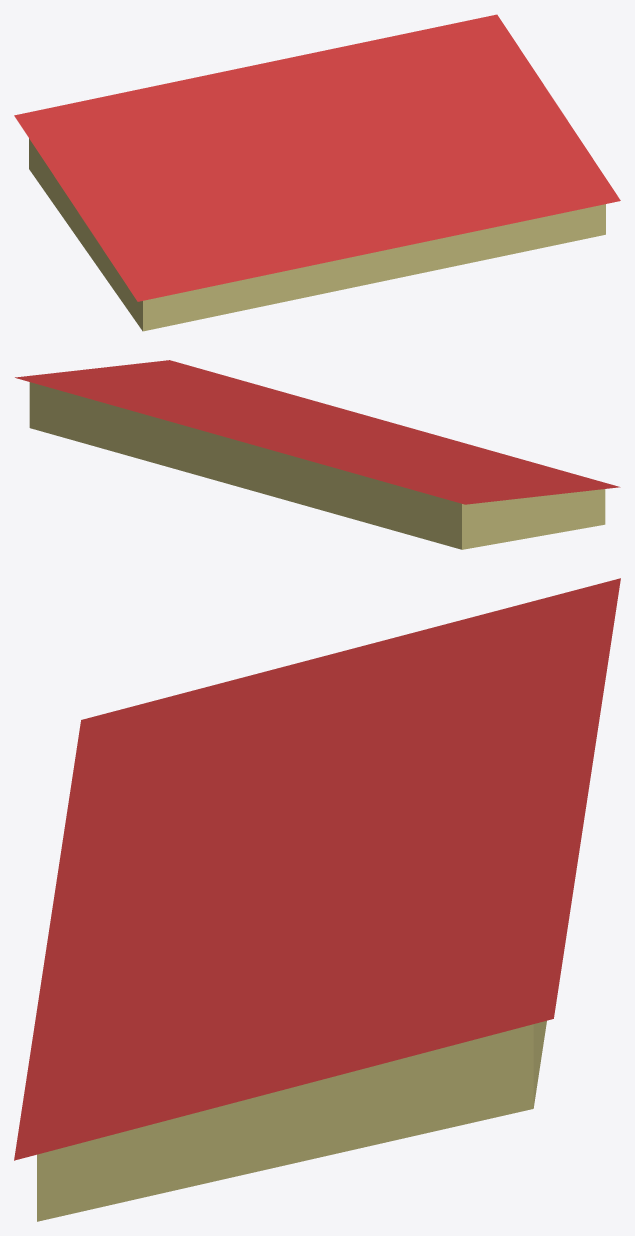
3 views of the same model, one above another, from view 1: azimuth 30°, elevation 25°; view 2: azimuth 150°, elevation 25°; view 3: azimuth 270°, elevation 25° (orthographic). The views are drawn at different scales.
Bounding box in the file's own units: 12.42 × 7 × 2.88.
